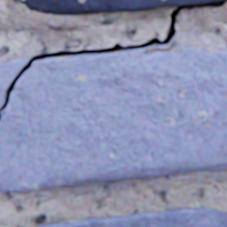brick: (38, 206, 226, 226), (21, 0, 217, 14)
broken_brick: (0, 45, 226, 190)
crack: (2, 0, 224, 108)
